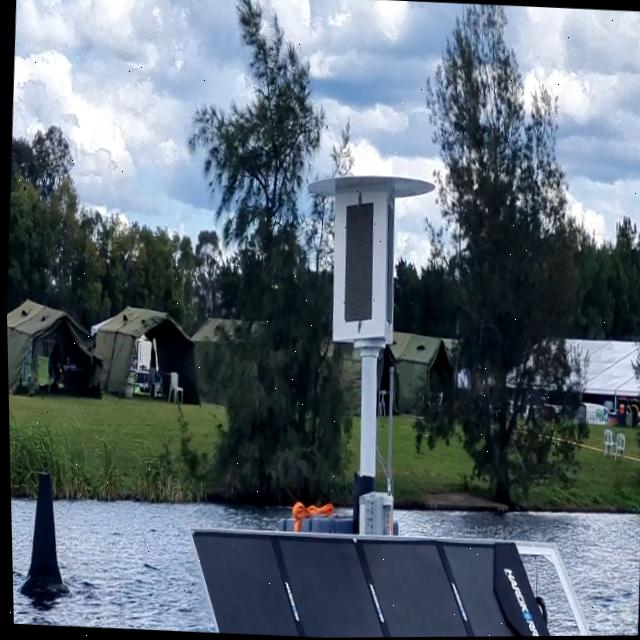led: (331, 194, 385, 330)
